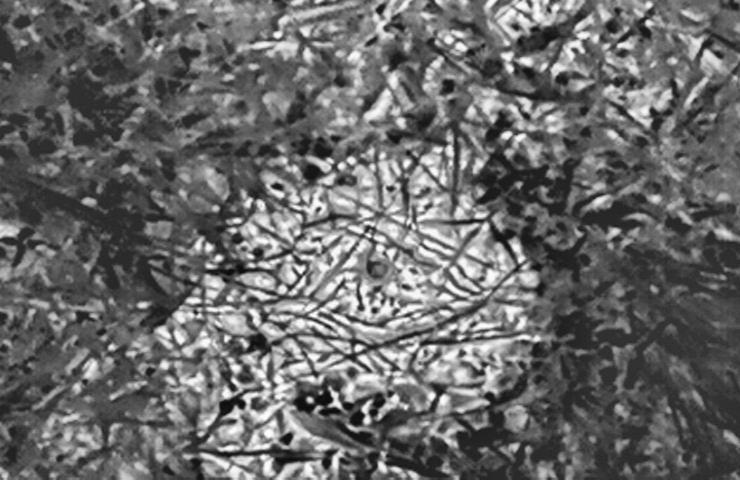landmines: (196, 131, 560, 442)
